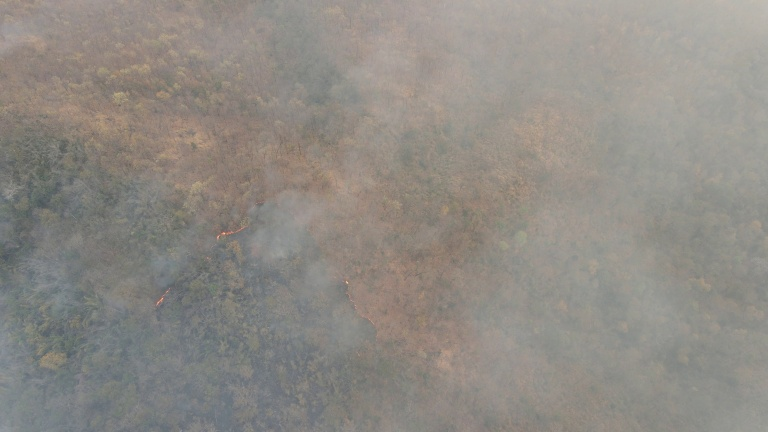fire: (208, 195, 275, 255), (334, 270, 381, 337), (152, 276, 188, 312)
smoke: (2, 222, 768, 430), (265, 1, 768, 222)
